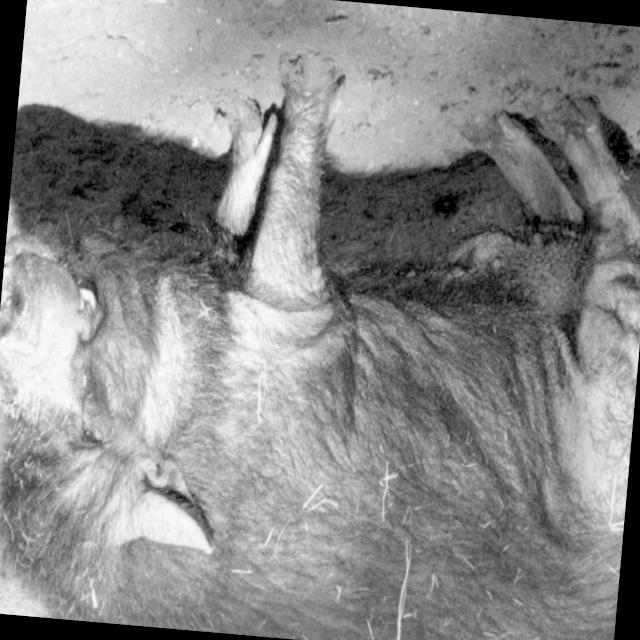pig: (0, 57, 640, 640)
